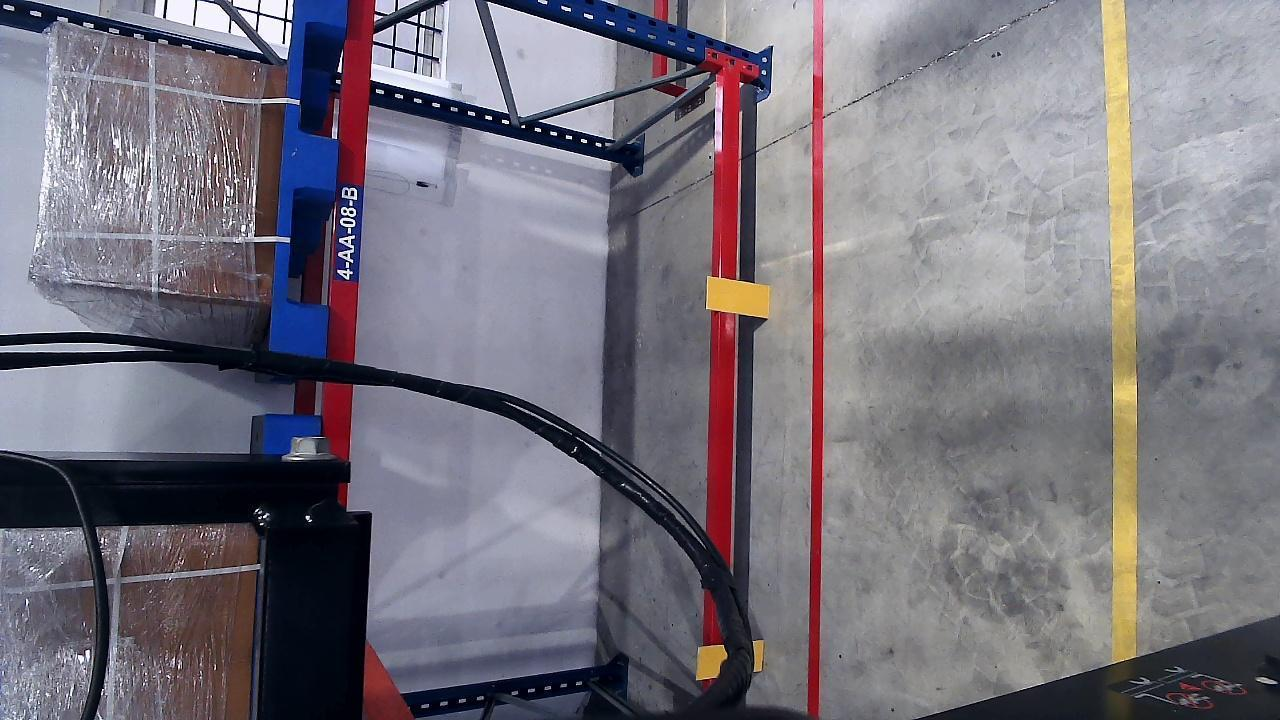red_line: (810, 0, 827, 718)
yellow_line: (1102, 0, 1138, 659)
